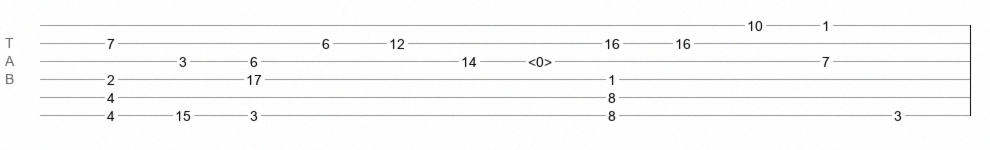1: (608, 72, 616, 82), (822, 18, 830, 28)
10: (747, 18, 763, 28)
12: (389, 36, 405, 46)
14: (461, 54, 477, 64)
15: (175, 108, 191, 118)
16: (604, 36, 620, 46), (675, 36, 691, 46)
17: (246, 72, 262, 82)
2: (107, 72, 115, 82)
3: (179, 54, 187, 64), (250, 108, 258, 118), (894, 108, 902, 118)
4: (107, 108, 115, 118), (107, 90, 115, 100)
6: (250, 54, 258, 64), (322, 36, 330, 46)
7: (107, 36, 115, 46), (822, 54, 830, 64)
8: (608, 90, 616, 100), (608, 108, 616, 118)
harmonic: (528, 54, 552, 64)
